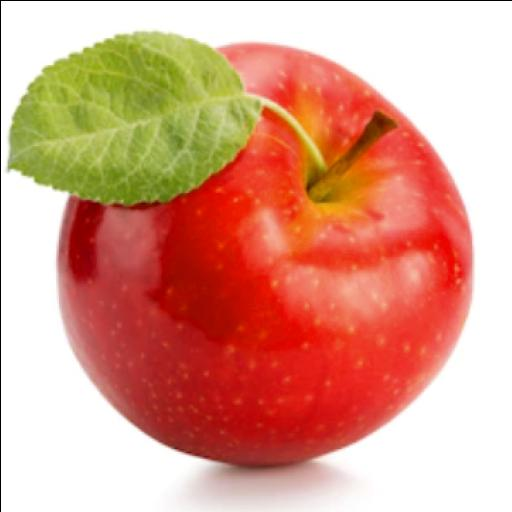apple: (59, 44, 471, 464)
